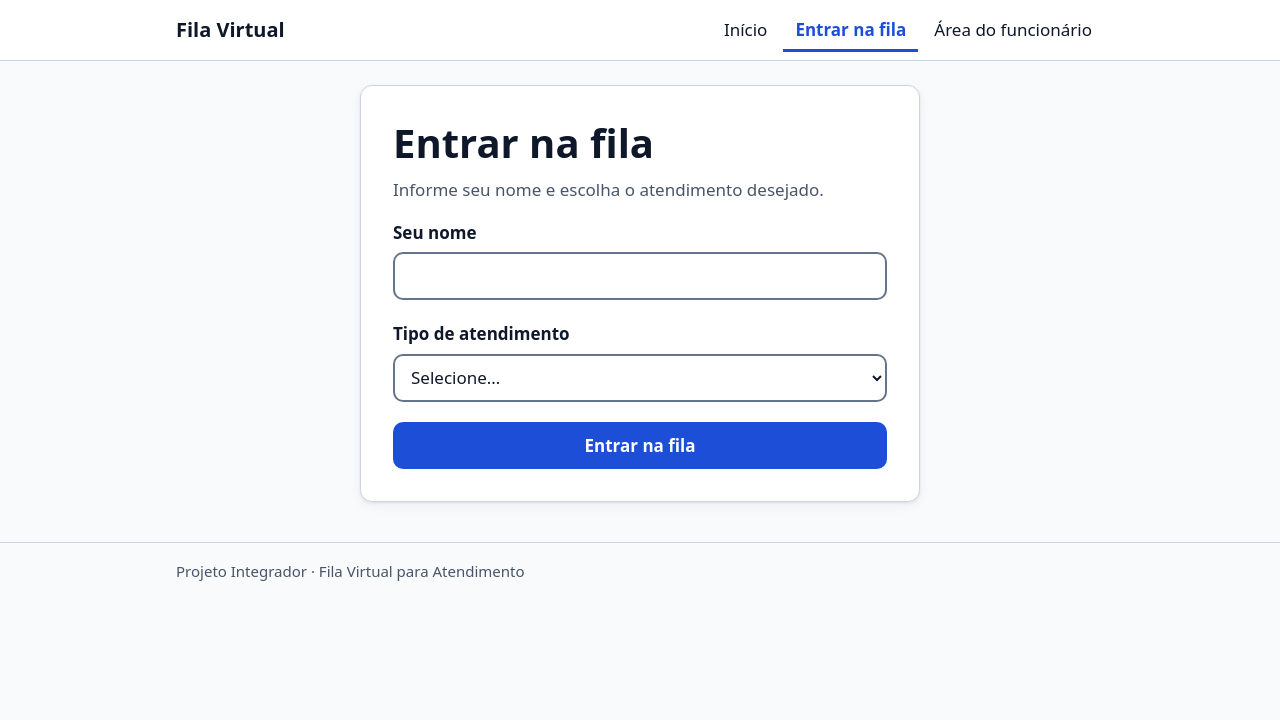
it: Entrar na fila (cliente, sem login) › preferencial tem posição melhor e aparece identificado
Type "Ana" into the field labelled "Seu nome". click: coordinates (640, 276)
box: [393, 252, 887, 300]
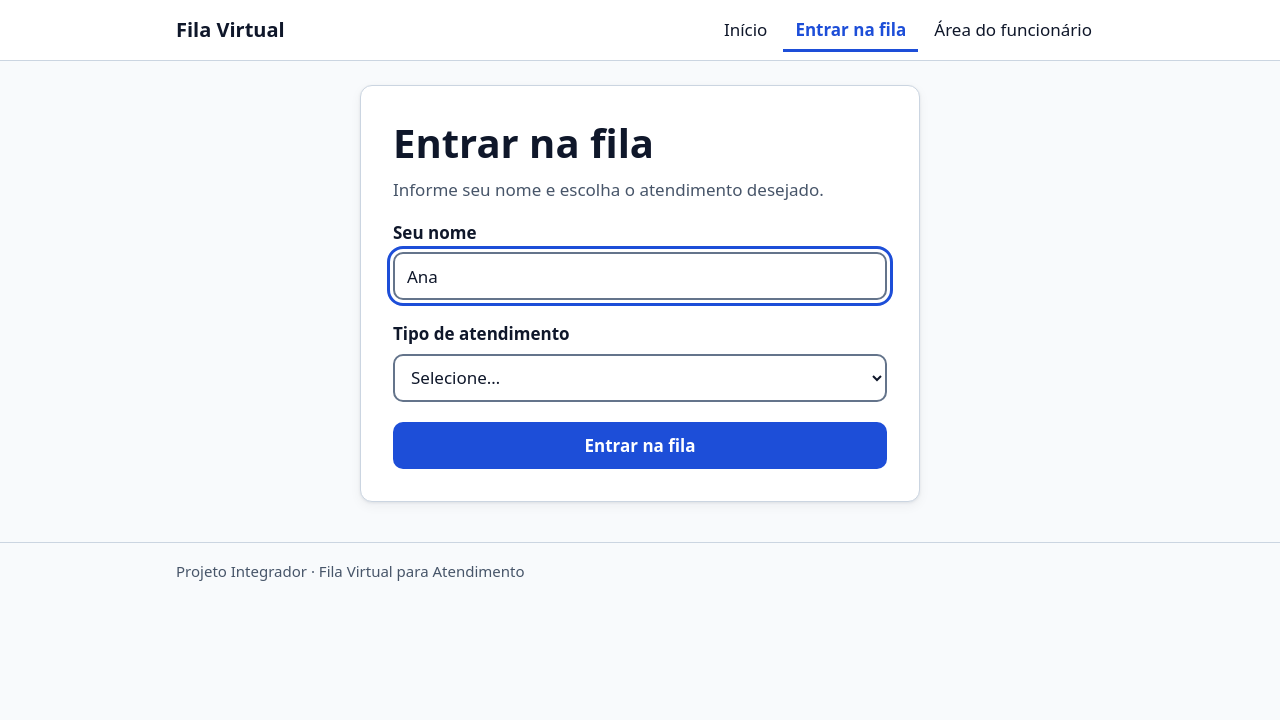
Select "Atendimento Geral" in the dropdown labelled "Tipo de atendimento". click: coordinates (640, 378)
box: [393, 354, 887, 402]
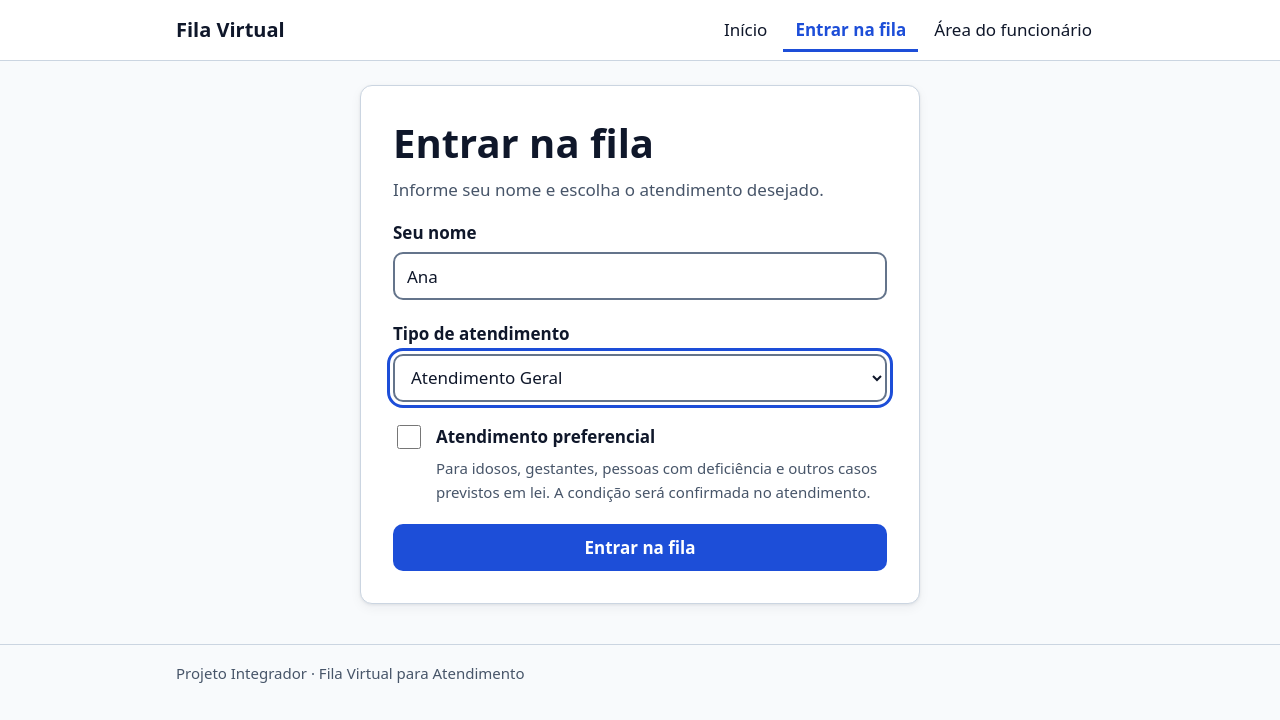
Click the checkbox labelled "Atendimento preferencial". click: coordinates (409, 437)
box: [397, 425, 421, 449]
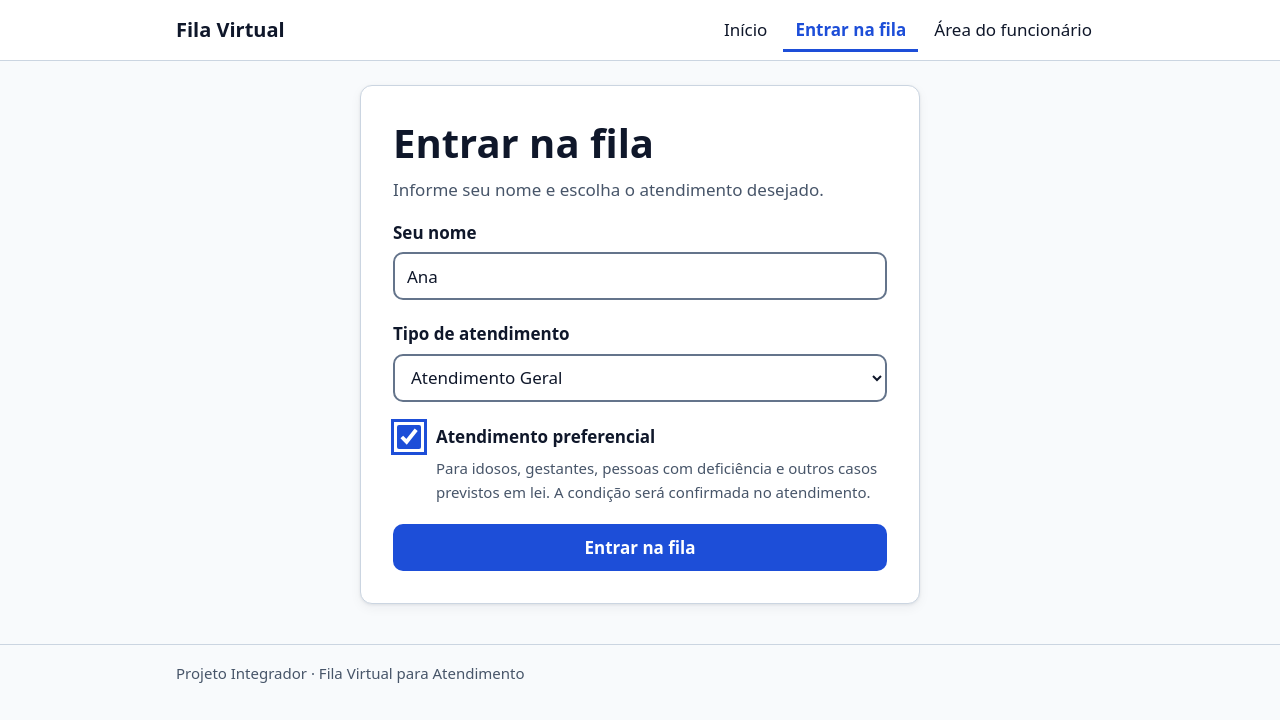
Click the button "Entrar na fila". click: coordinates (640, 547)
box: [393, 524, 887, 571]
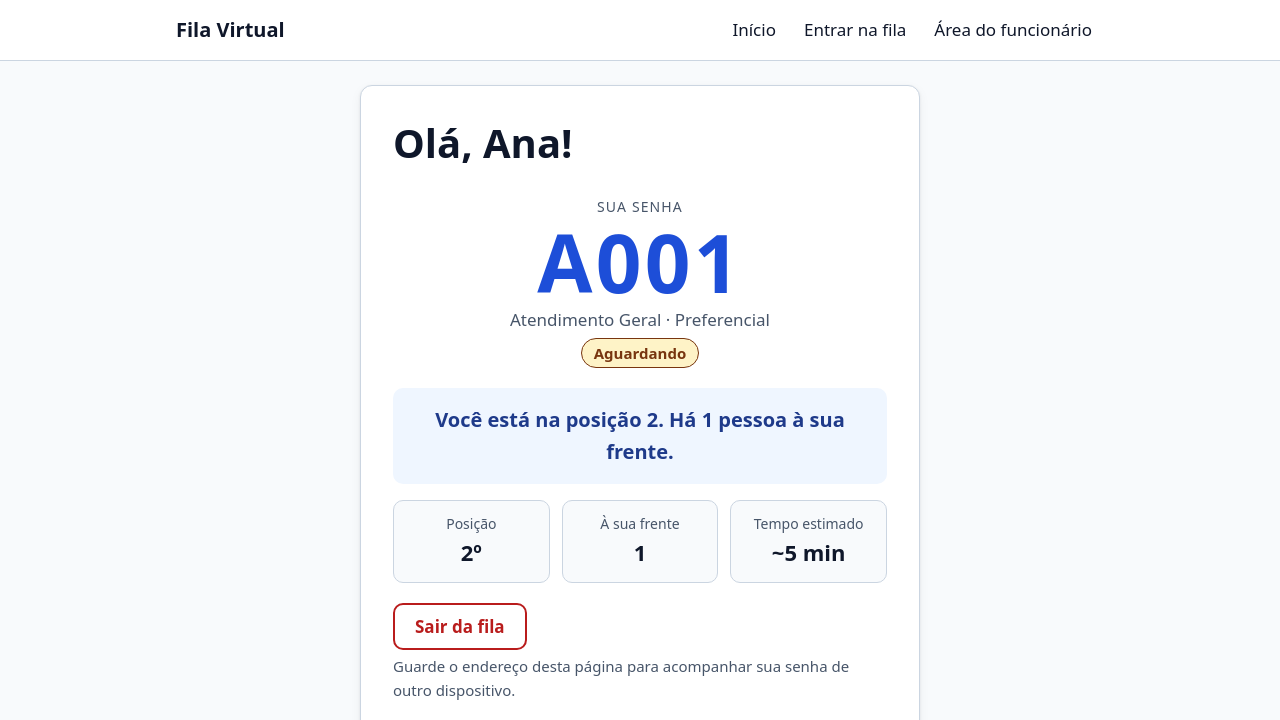
Check: the heading "Olá, Ana!" is shown, box [393, 115, 572, 170]
Check: the message shows "Há 1 pessoa à sua frente.", box [435, 406, 845, 465]
Check: the text "Atendimento Geral · Preferencial" is shown, box [510, 306, 770, 334]
